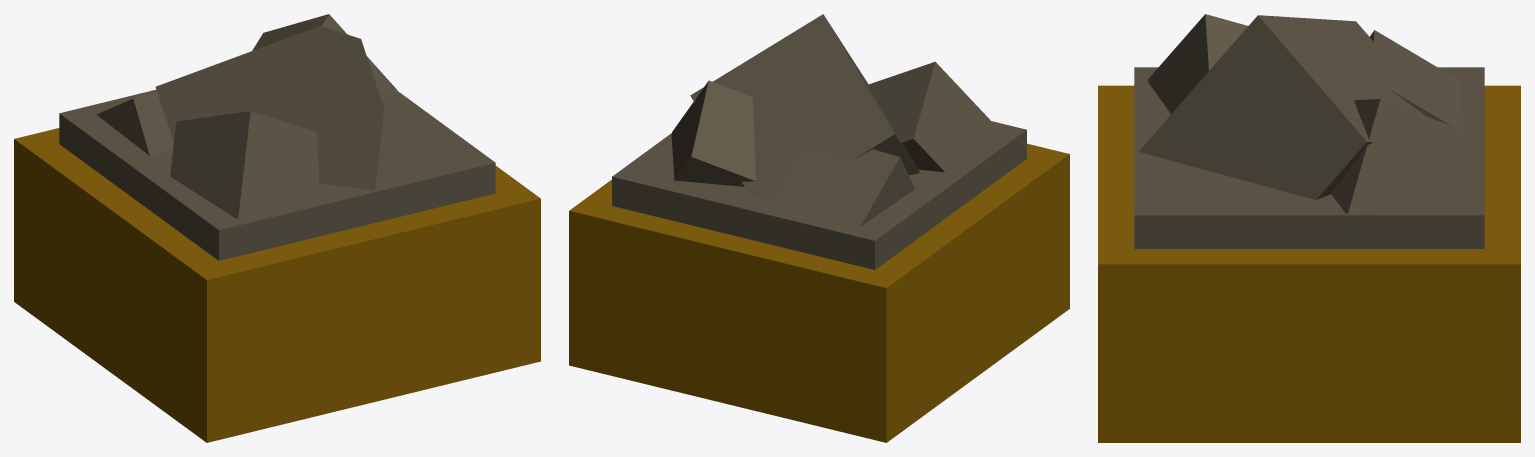
Rendered from ironcrate.fbx.
The picture shows the model from 3 angles, left to right: view 1: azimuth 30°, elevation 25°; view 2: azimuth 150°, elevation 25°; view 3: azimuth 270°, elevation 25°; orthographic projection. The views are drawn at different scales.
Visible parts, largest first — view 1: pCube7; view 2: pCube7; view 3: pCube7.
Boxes of the visible parts, bbox=[...] form: pCube7: bbox=[14, 14, 540, 442]; pCube7: bbox=[569, 14, 1069, 442]; pCube7: bbox=[1098, 14, 1520, 442].
Bounding box in the file's own units: 12.75 × 11.6 × 12.75.
Materials: 1 (1 with a texture image).
